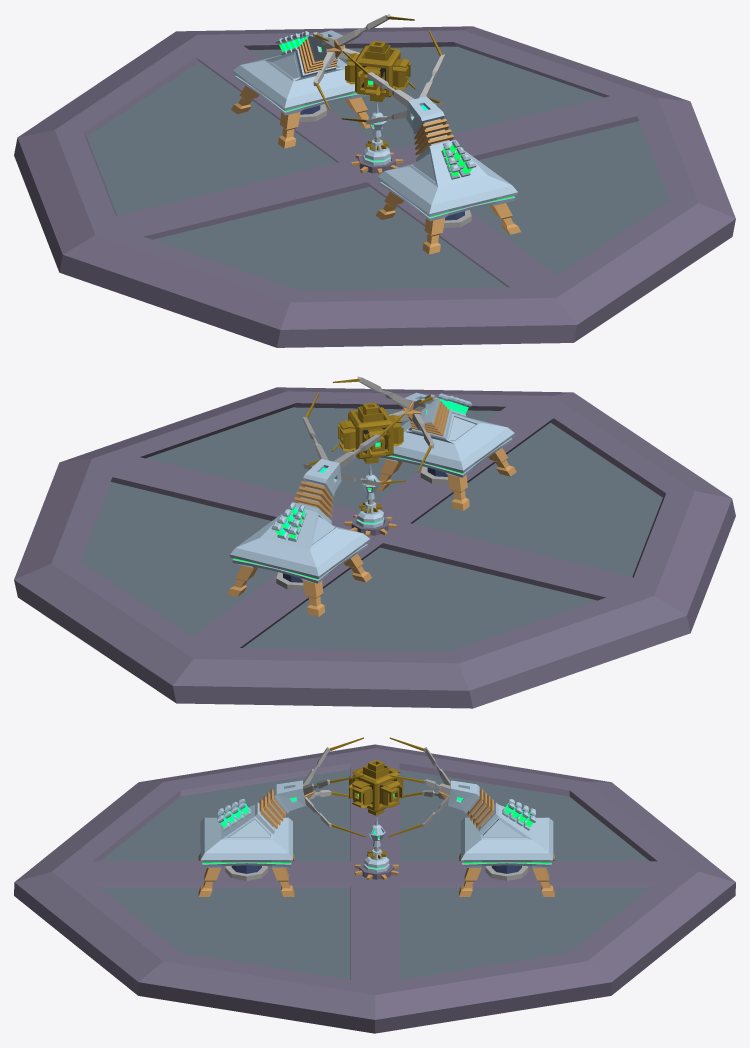
Rendered from baseitens_complet.fbx.
3 renders of one model, top to bottom at view 1: azimuth 30°, elevation 25°; view 2: azimuth 150°, elevation 25°; view 3: azimuth 270°, elevation 25°, orthographic. The views are drawn at different scales.
Parts seen in each view (by area): view 1: Plane.001; view 2: Plane.001; view 3: Plane.001.
Boxes of the visible parts, box(x1,y1,x2,y2) form: Plane.001: box(14, 14, 735, 347); Plane.001: box(14, 376, 735, 708); Plane.001: box(14, 737, 735, 1033).
Size of the model in its own units: 1953 by 468 by 2150.
